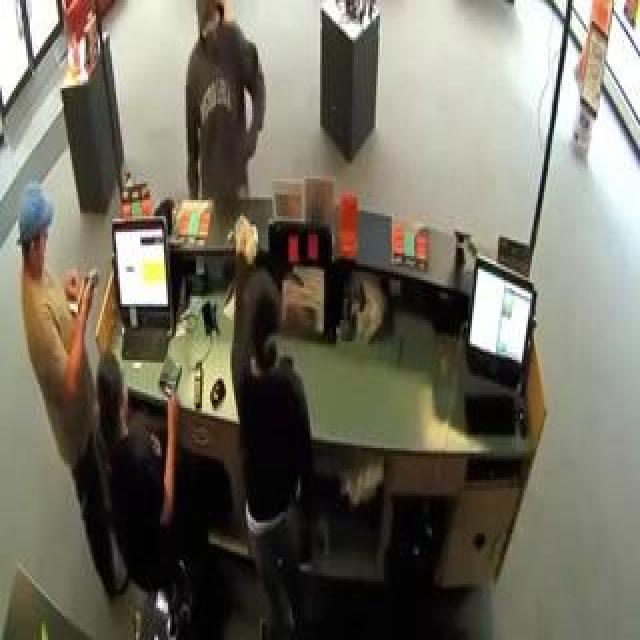high_con: (186, 0, 237, 59)
low_con: (15, 178, 56, 282)
no_con: (230, 266, 290, 390), (91, 350, 137, 453)
